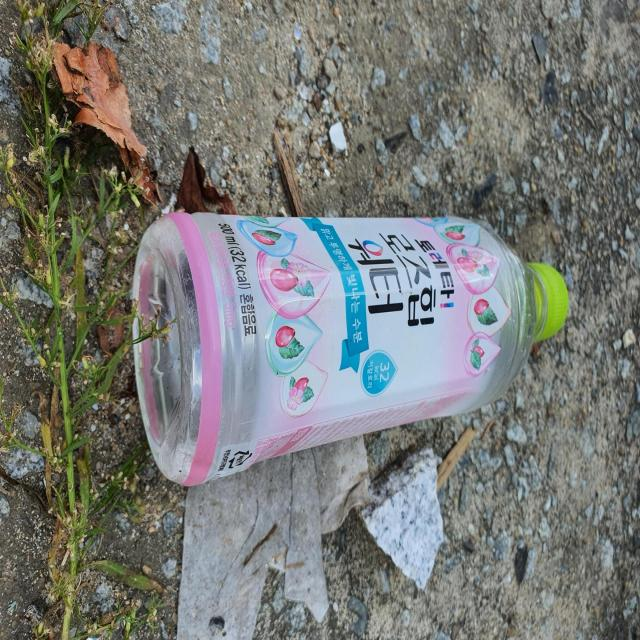plastic: (132, 212, 569, 486)
